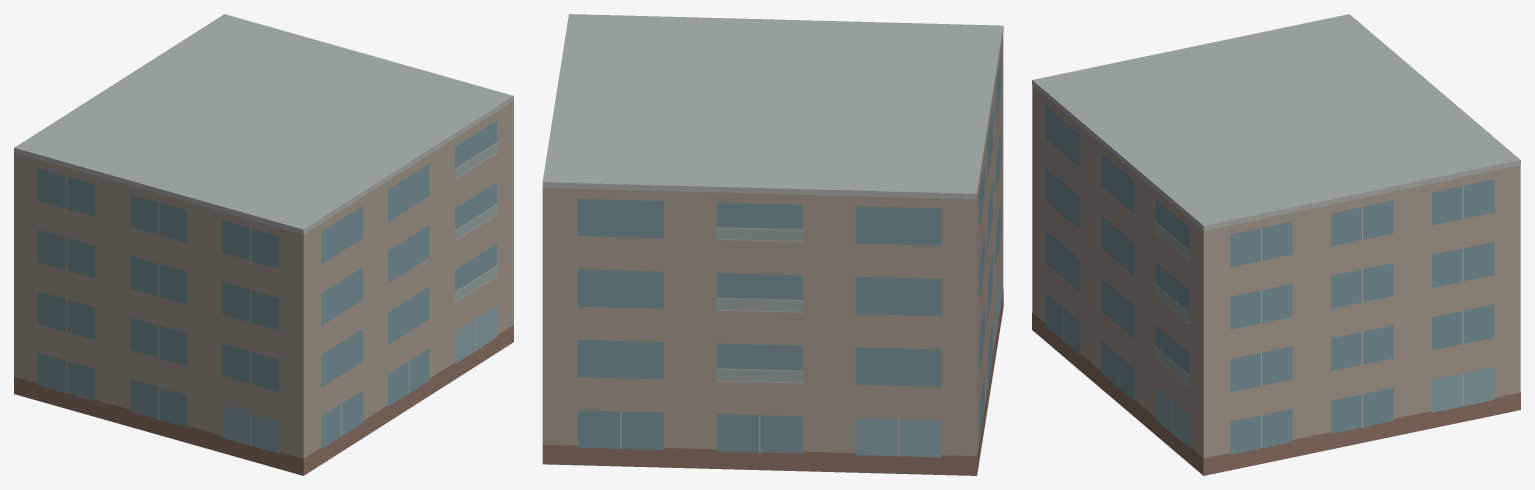
Rendered from survey-upis-32809342.glb.
3 renders of one model, left to right at view 1: azimuth 30°, elevation 25°; view 2: azimuth 150°, elevation 25°; view 3: azimuth 270°, elevation 25°, orthographic. The views are drawn at different scales.
Visible parts, largest first — view 1: survey-upis-32809342.tmp; view 2: survey-upis-32809342.tmp; view 3: survey-upis-32809342.tmp.
Part boxes in pixels (left/top/right/bottom): survey-upis-32809342.tmp: left=14, top=14, right=513, bottom=475; survey-upis-32809342.tmp: left=542, top=14, right=1003, bottom=475; survey-upis-32809342.tmp: left=1032, top=14, right=1520, bottom=475.
Bounding box in the file's own units: 22.02 × 12.1 × 21.45.
